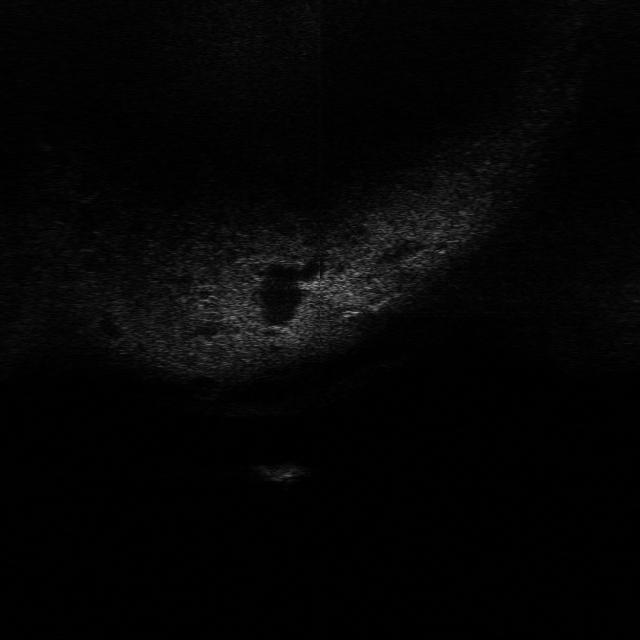cube: (248, 458, 312, 486)
